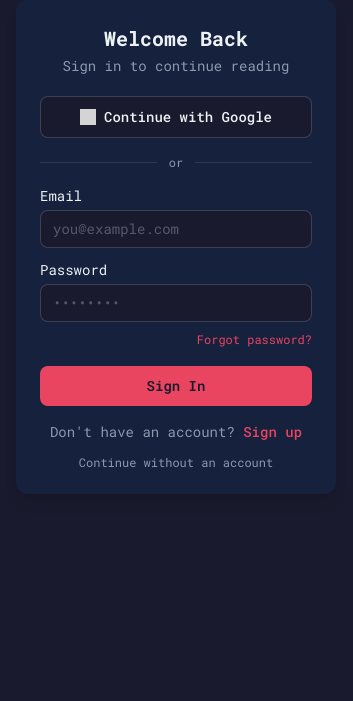
Test case: Login Page › Sign Up Flow › shows verification message on successful sign up
Click the button "Sign up" at (273, 432), box 243,422 -> 302,442
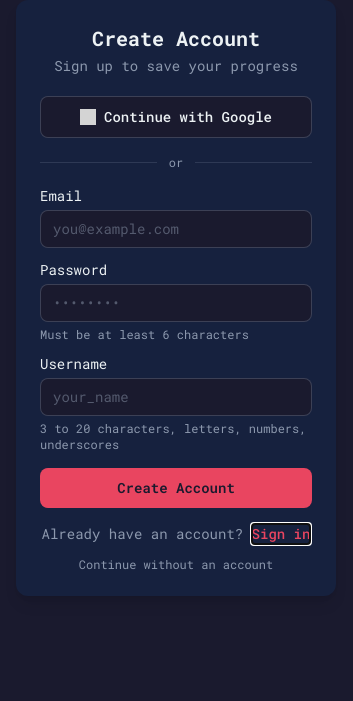
Type "testuser" into the field labelled "Username" at (176, 397), box 40,378 -> 312,416
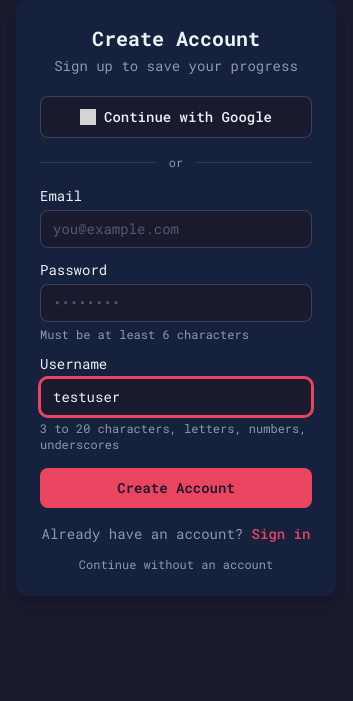
Type "new@example.com" into the field labelled "Email" at (176, 229), box 40,210 -> 312,248
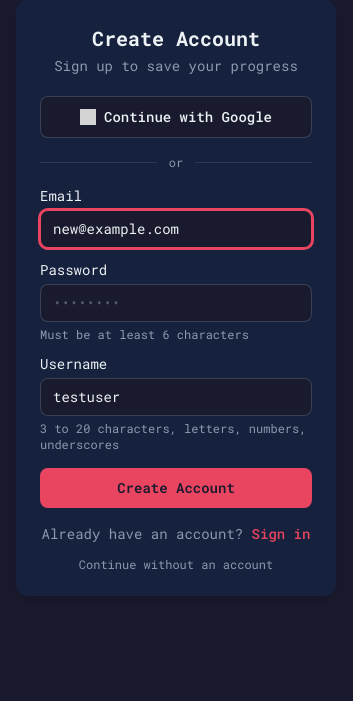
Type "password123" into the password field labelled "Password" at (176, 303), box 40,284 -> 312,322
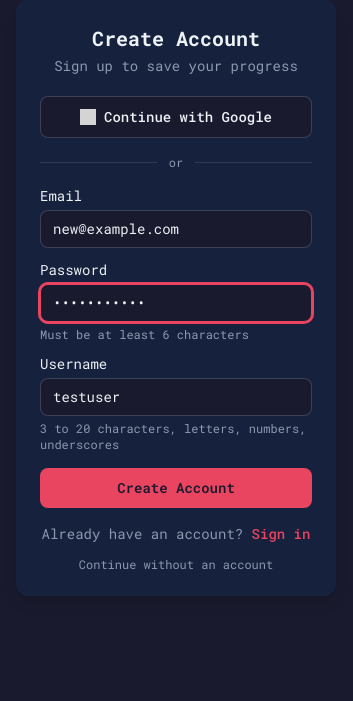
Click the button "Create Account" at (176, 488), box 40,468 -> 312,508
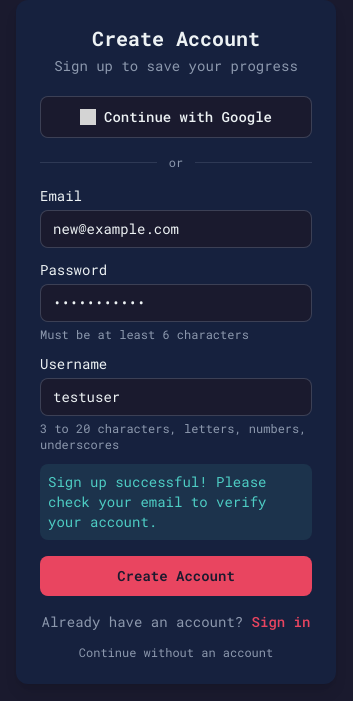
Result: the text "Sign up successful! Please check your email to verify your account." is shown at 40,464 -> 312,540
